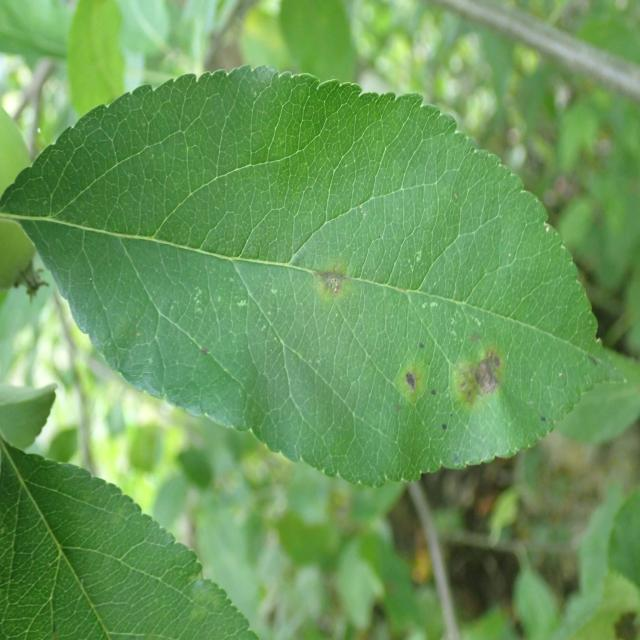scab: (109, 131, 614, 444)
